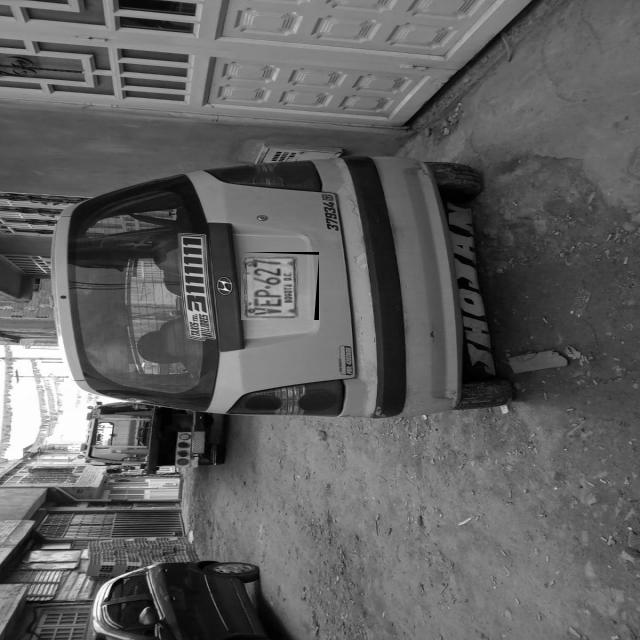plate: (241, 255, 315, 320)
